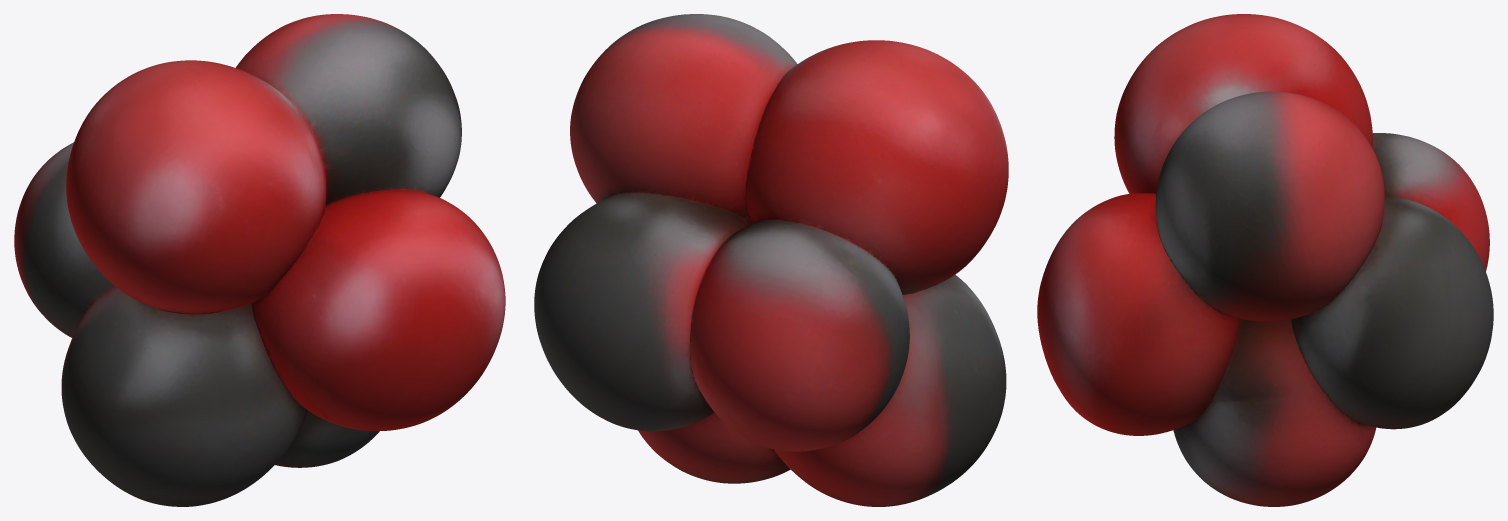
The picture shows the model from 3 angles, left to right: view 1: azimuth 30°, elevation 25°; view 2: azimuth 150°, elevation 25°; view 3: azimuth 270°, elevation 25°; orthographic projection. The views are drawn at different scales.
Visible parts, largest first — view 1: geometry_0; view 2: geometry_0; view 3: geometry_0.
Boxes of the visible parts, bbox=[...] form: geometry_0: bbox=[14, 14, 505, 506]; geometry_0: bbox=[534, 14, 1008, 506]; geometry_0: bbox=[1037, 14, 1493, 506].
Bounding box in the file's own units: 0.12 × 0.1283 × 0.1283.
1 material, 1 textured.
